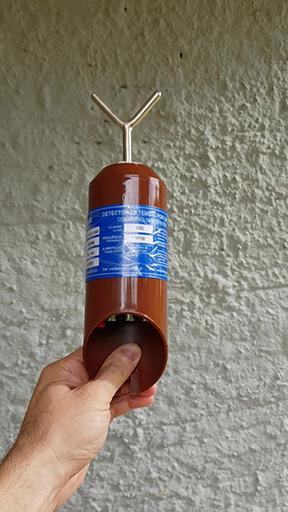Detector_Tensao_Contato: (82, 89, 171, 398)
